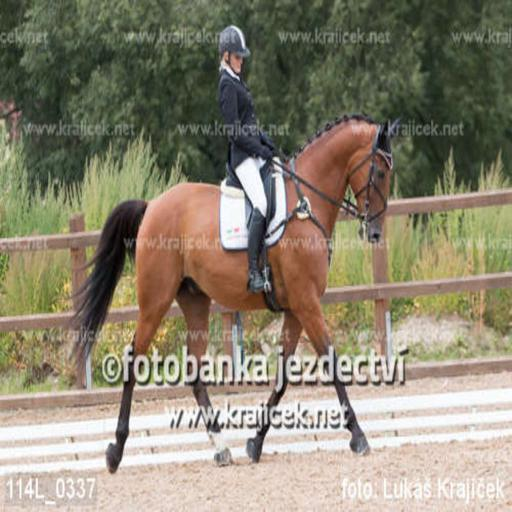horse: (62, 112, 402, 474)
